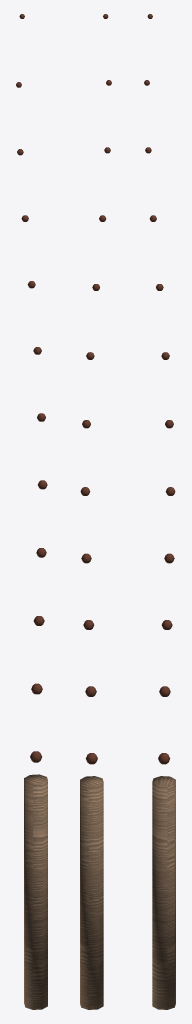
File: whip.fbx
The picture shows the model from 3 angles, left to right: view 1: azimuth 30°, elevation 25°; view 2: azimuth 210°, elevation 25°; view 3: azimuth 330°, elevation 25°; orthographic projection.
Parts seen in each view (by area): view 1: whip; view 2: whip; view 3: whip.
Boxes of the visible parts, bbox=[...] form: whip: bbox=[16, 14, 47, 1009]; whip: bbox=[80, 14, 111, 1009]; whip: bbox=[144, 14, 175, 1009].
Bounding box in the file's own units: 0.0281 × 0.8822 × 0.02.
2 materials, 2 textured.
